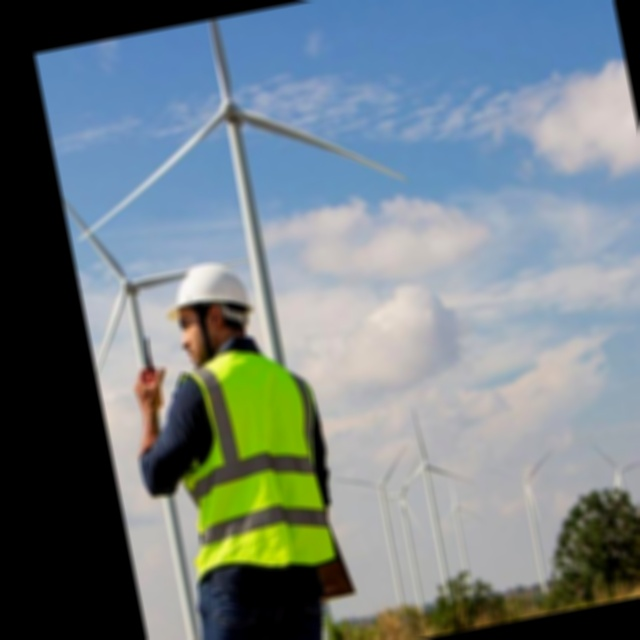Con_Casco: (156, 255, 259, 370)
Con_Chaleco: (158, 343, 345, 584)
